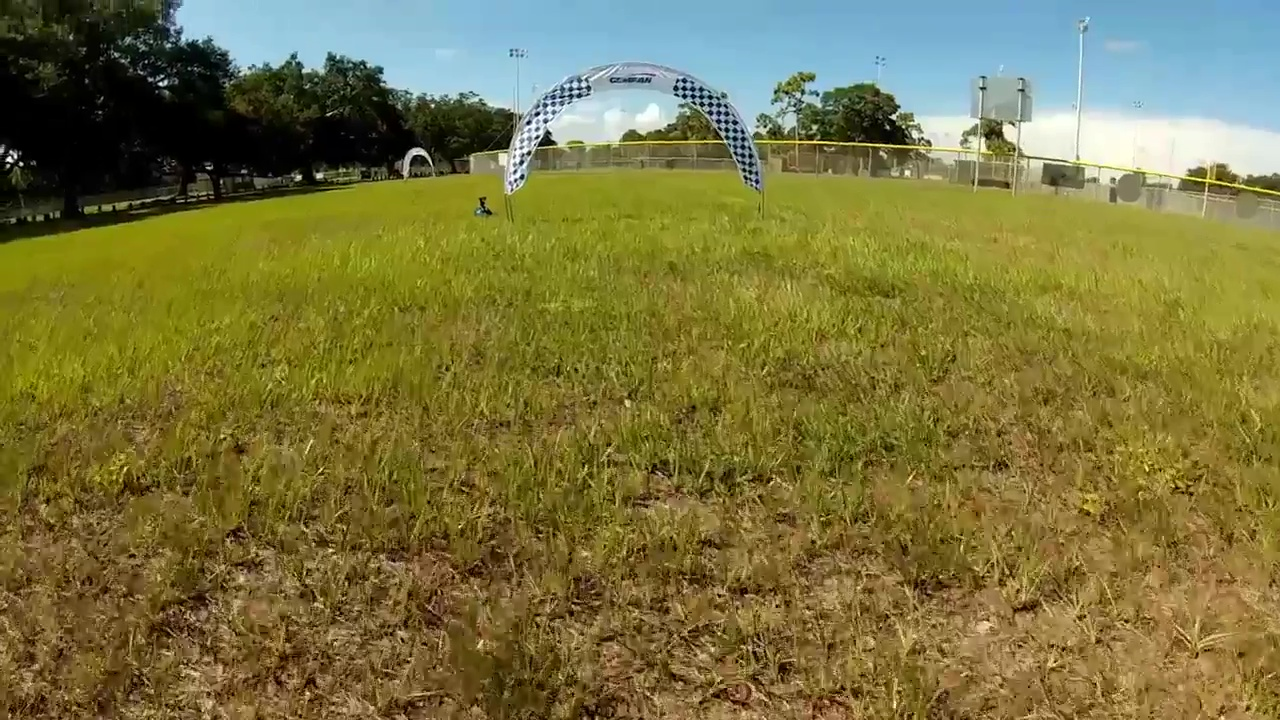gate: (497, 62, 769, 197)
